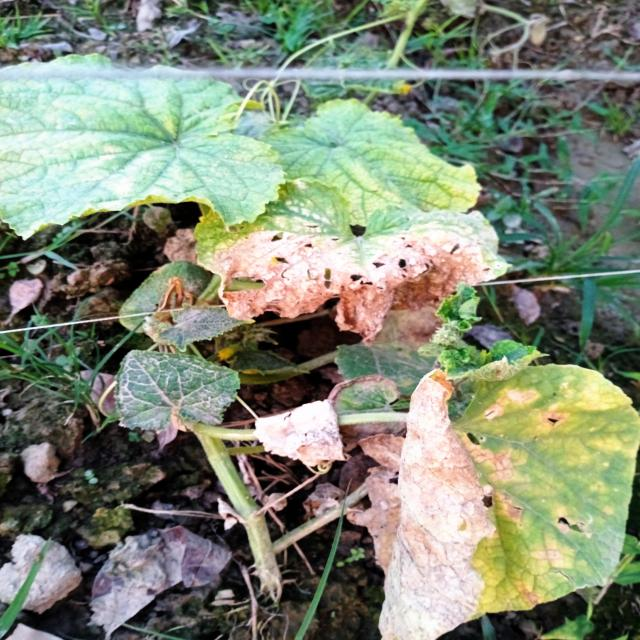Bacterial-Wilt: (252, 400, 349, 470)
